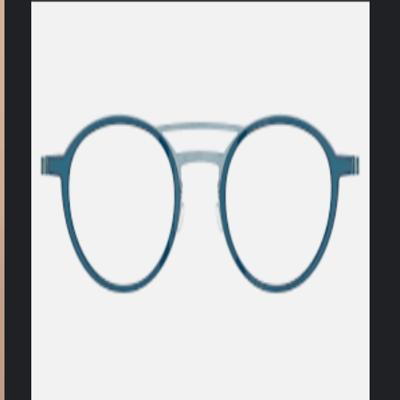glasses: (40, 110, 364, 306)
